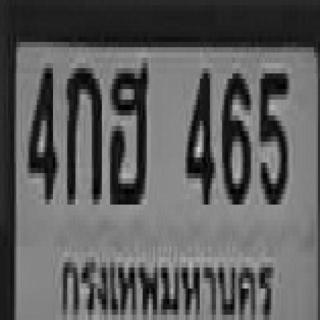A01: (65, 63, 100, 200)
A44: (108, 58, 147, 199)
N04: (183, 63, 212, 200), (27, 58, 55, 199)
N05: (257, 68, 287, 199)
N06: (220, 68, 249, 199)
P04: (56, 244, 281, 320)
